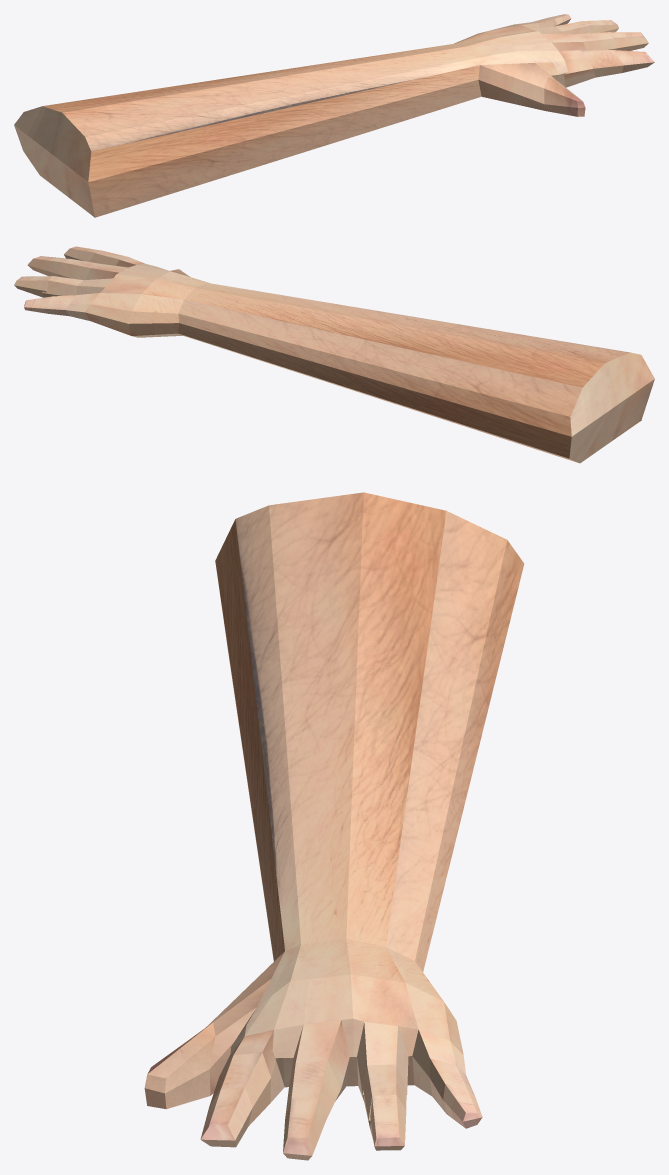
File: ruka.fbx
3 renders of one model, top to bottom at view 1: azimuth 30°, elevation 25°; view 2: azimuth 150°, elevation 25°; view 3: azimuth 270°, elevation 25°, orthographic. The views are drawn at different scales.
Parts seen in each view (by area): view 1: base, finger1-1, finger1-2, finger2-1, finger2-2, finger2-3, finger3-3, finger3-2, finger3-1, finger4-3, finger4-2; view 2: base, finger4-2, finger3-2, finger4-3, finger3-3, finger4-1.001, finger3-1, finger5-2, finger4-1, finger2-3, finger2-2, finger5-3; view 3: base, finger1-2, finger1-1, finger3-1, finger2-3, finger2-2, finger4-1, finger3-3, finger3-2, finger4-3, finger4-1.001, finger4-2 (+3 smaller).
Boxes of the visible parts, x1=… form: base: x1=14, y1=24, x2=568, y2=217; finger1-1: x1=478, y1=63, x2=553, y2=110; finger1-2: x1=544, y1=77, x2=585, y2=116; finger2-1: x1=559, y1=50, x2=595, y2=87; finger2-2: x1=581, y1=50, x2=623, y2=77; finger2-3: x1=613, y1=50, x2=654, y2=72; finger3-3: x1=608, y1=32, x2=648, y2=50; finger3-2: x1=575, y1=32, x2=617, y2=50; finger3-1: x1=542, y1=34, x2=586, y2=50; finger4-3: x1=583, y1=20, x2=618, y2=32; finger4-2: x1=555, y1=21, x2=591, y2=34; base: x1=85, y1=263, x2=654, y2=463; finger4-2: x1=42, y1=276, x2=83, y2=297; finger3-2: x1=57, y1=259, x2=99, y2=280; finger4-3: x1=14, y1=276, x2=53, y2=297; finger3-3: x1=27, y1=256, x2=69, y2=276; finger4-1.001: x1=66, y1=293, x2=99, y2=320; finger3-1: x1=85, y1=263, x2=127, y2=279; finger5-2: x1=45, y1=295, x2=76, y2=316; finger4-1: x1=76, y1=278, x2=112, y2=294; finger2-3: x1=64, y1=246, x2=101, y2=261; finger2-2: x1=89, y1=250, x2=127, y2=265; finger5-3: x1=24, y1=296, x2=51, y2=313; base: x1=215, y1=492, x2=524, y2=1087; finger1-2: x1=144, y1=1022, x2=215, y2=1109; finger1-1: x1=205, y1=951, x2=284, y2=1095; finger3-1: x1=289, y1=1020, x2=349, y2=1101; finger2-3: x1=200, y1=1087, x2=252, y2=1147; finger2-2: x1=209, y1=1052, x2=270, y2=1126; finger4-1: x1=357, y1=1022, x2=408, y2=1101; finger3-3: x1=283, y1=1097, x2=325, y2=1160; finger3-2: x1=285, y1=1060, x2=340, y2=1120; finger4-3: x1=370, y1=1095, x2=406, y2=1150; finger4-1.001: x1=412, y1=1029, x2=466, y2=1096; finger4-2: x1=362, y1=1064, x2=406, y2=1128.
Size of the model in its own units: 87.44 by 11.51 by 24.77.
